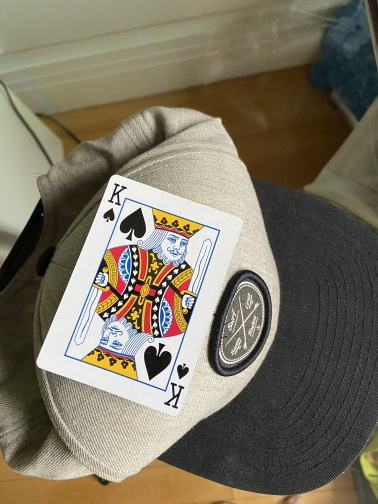king: (35, 172, 244, 417)
